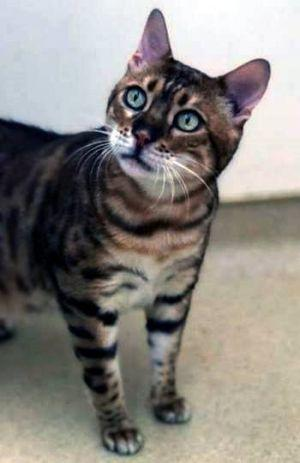bengal: (99, 1, 280, 195)
